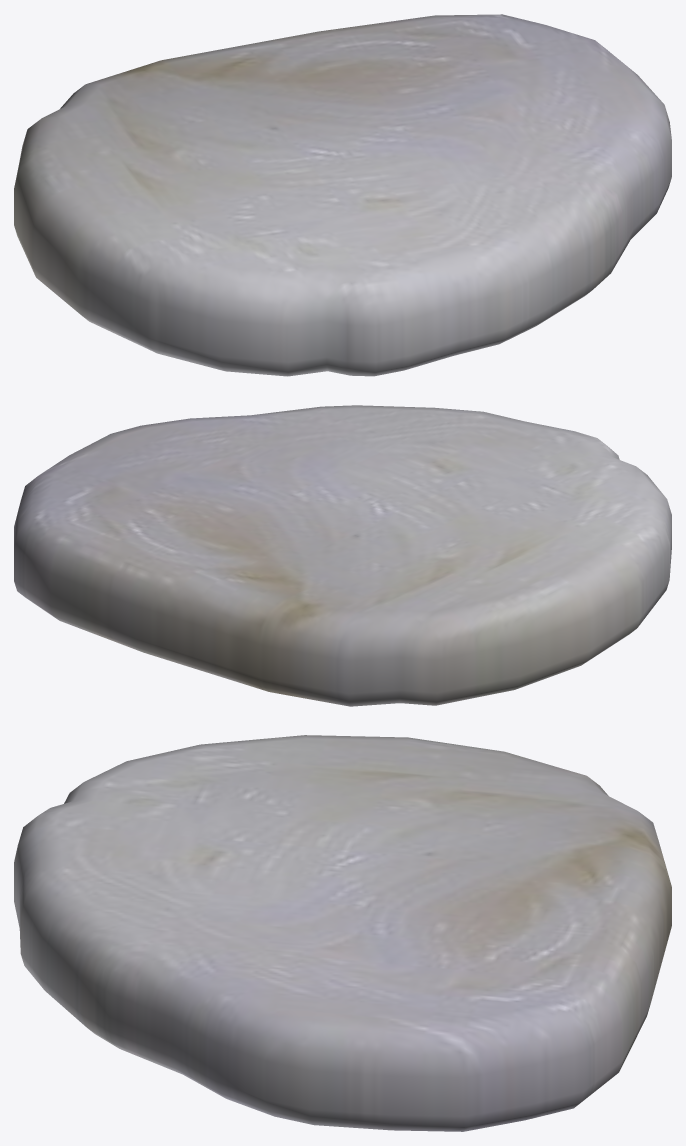
File: bun_la_1.fbx
The picture shows the model from 3 angles, top to bottom: view 1: azimuth 30°, elevation 25°; view 2: azimuth 150°, elevation 25°; view 3: azimuth 270°, elevation 25°; orthographic projection. The views are drawn at different scales.
Parts seen in each view (by area): view 1: bun_la; view 2: bun_la; view 3: bun_la.
Boxes of the visible parts, box(x1,y1,x2,y2) form: bun_la: box(14, 14, 671, 376); bun_la: box(14, 405, 671, 706); bun_la: box(14, 735, 671, 1131).
Bounding box in the file's own units: 167 × 24.73 × 145.
Materials: 1 (1 with a texture image).
